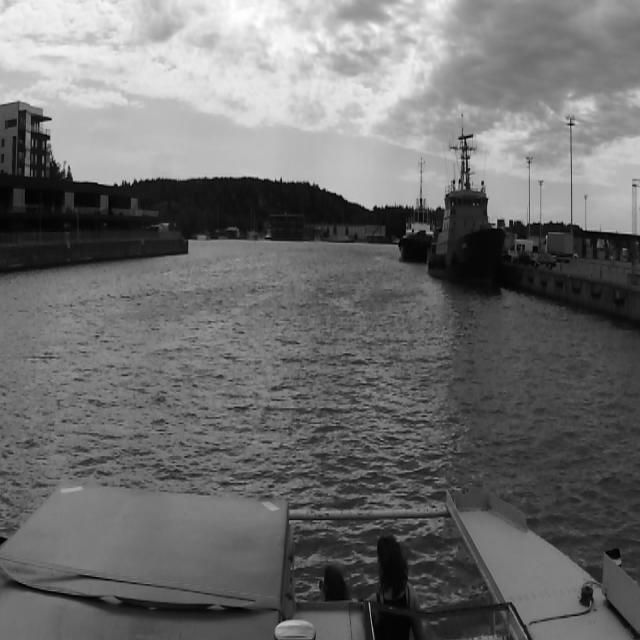ship: (431, 105, 509, 286), (400, 152, 431, 262)
